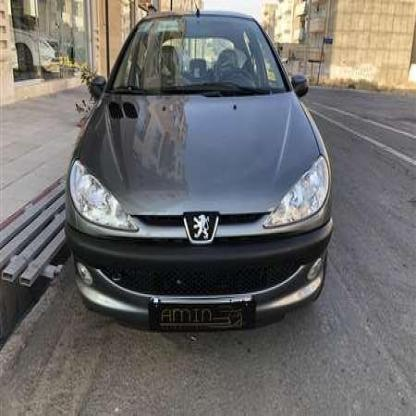Car: (67, 0, 333, 340), (2, 13, 56, 83)
